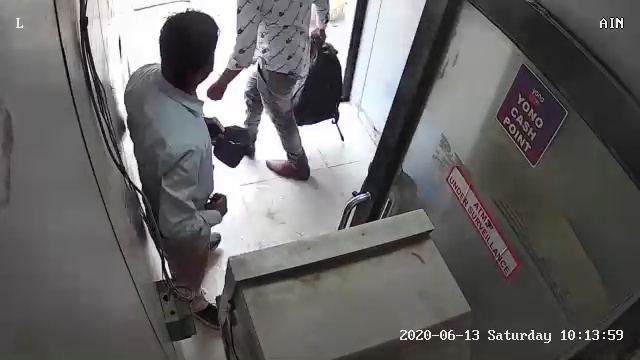open: (330, 4, 636, 355)
